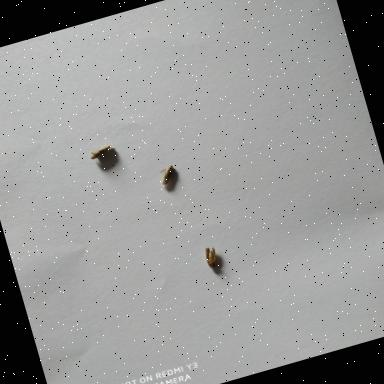pbw: (84, 140, 117, 163), (155, 162, 184, 188), (198, 243, 222, 272)
